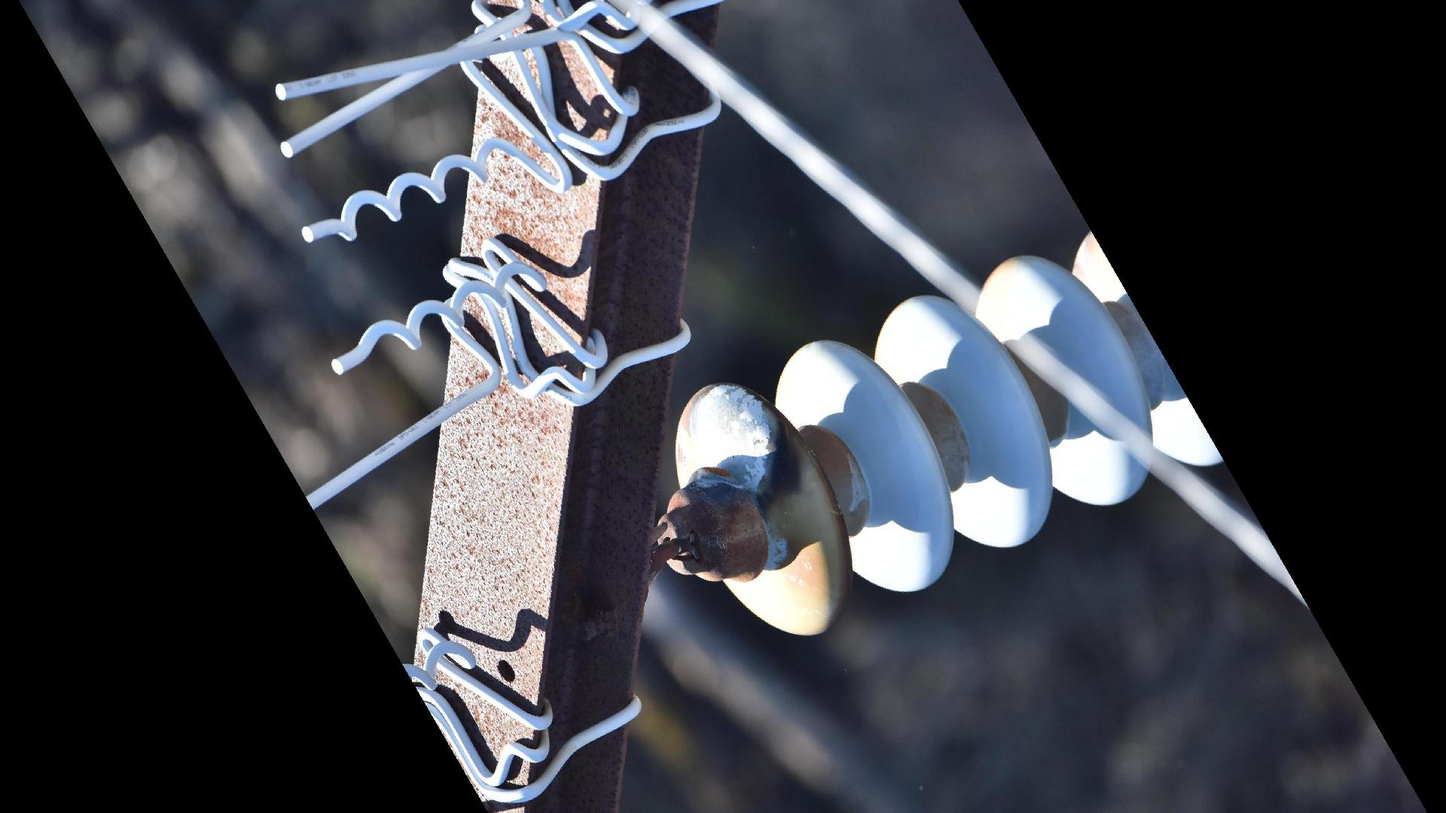insulator: (667, 228, 1226, 645)
insulator_flashover: (685, 380, 779, 493)
